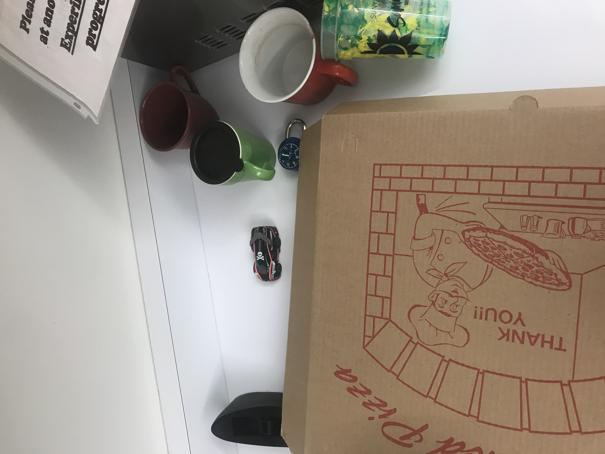Skull: (250, 226, 283, 281)
